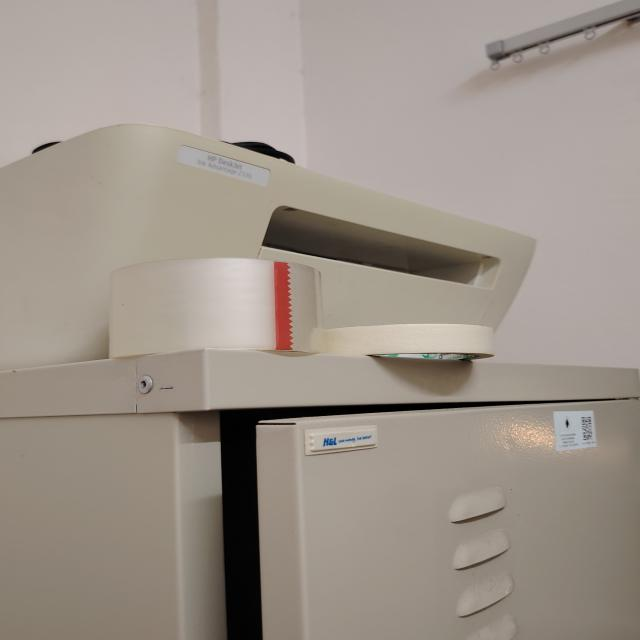tape: (109, 258, 324, 358), (324, 324, 494, 361)
